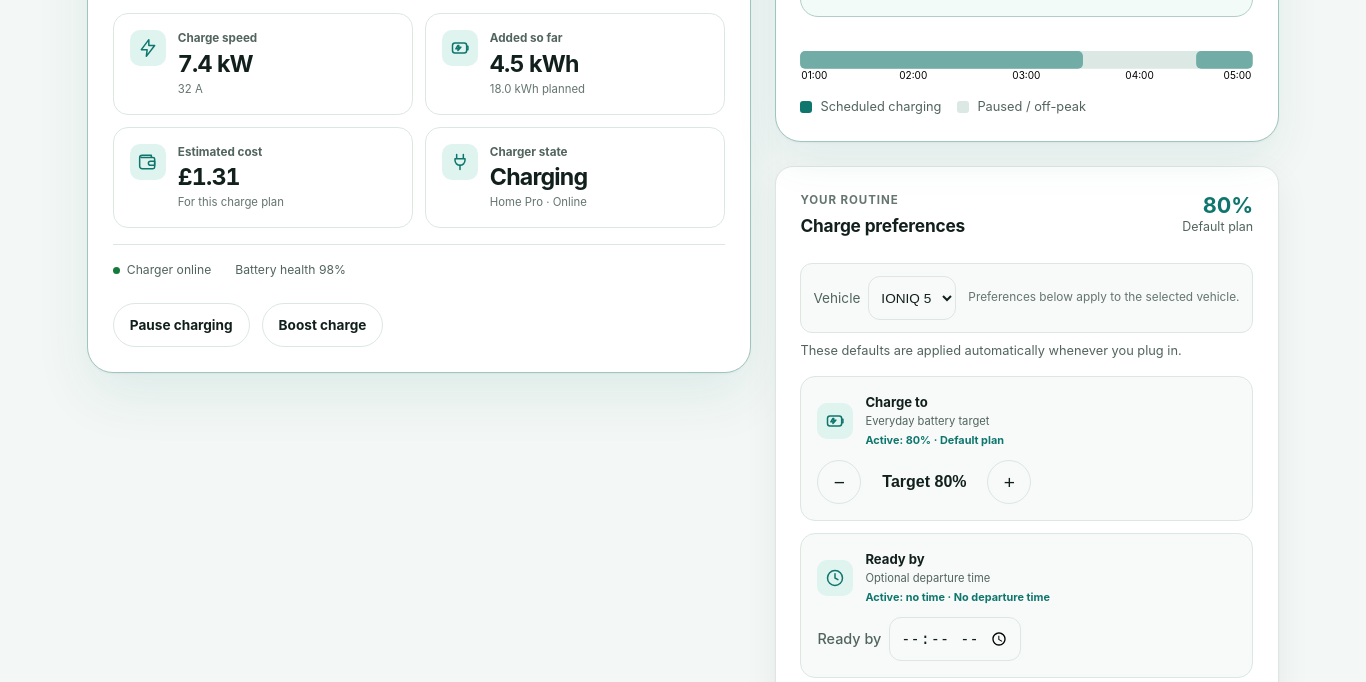
Test: Dashboard integration › wires multi-vehicle selection and profiles into charge preferences
This screenshot has width=1366, height=682.
(page scrolled)
Select "Kona" in the dropdown labelled "Vehicle". click: {"x": 912, "y": 298}
box: [868,276,956,320]
(page scrolled)
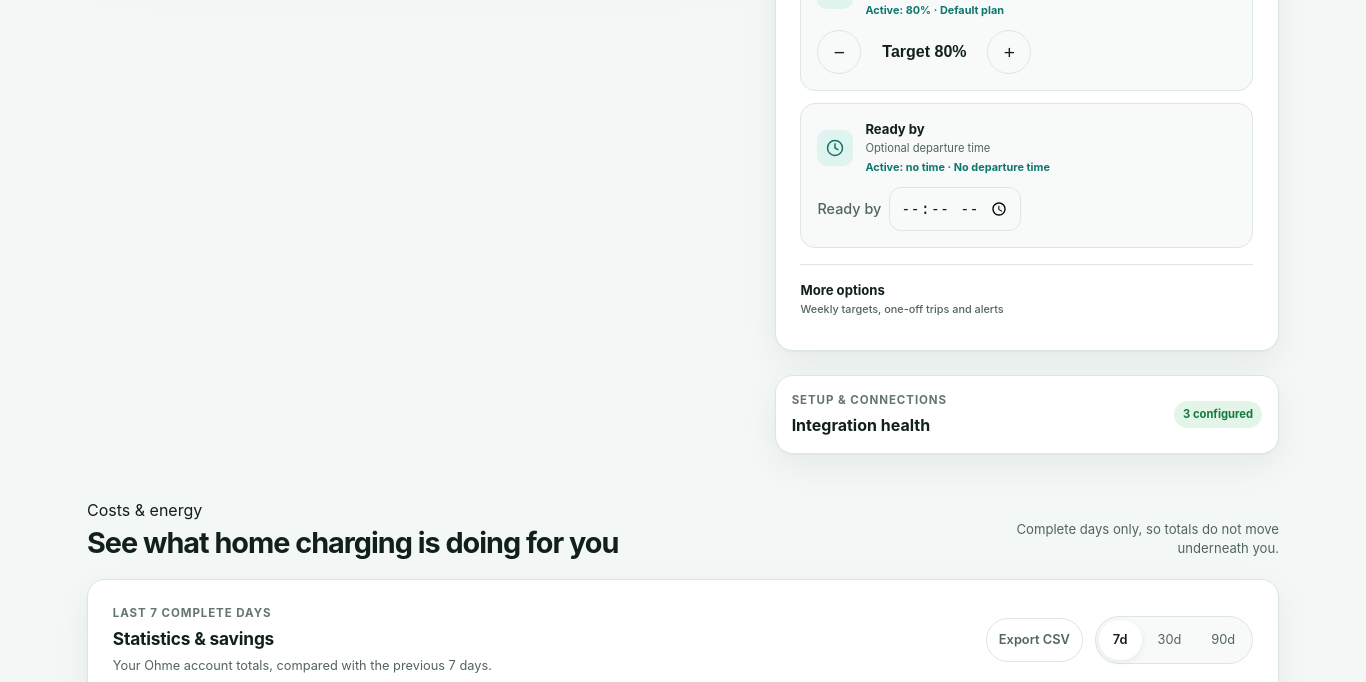
Click the heading "More options". click: {"x": 902, "y": 299}
box: [800,282,1004,316]
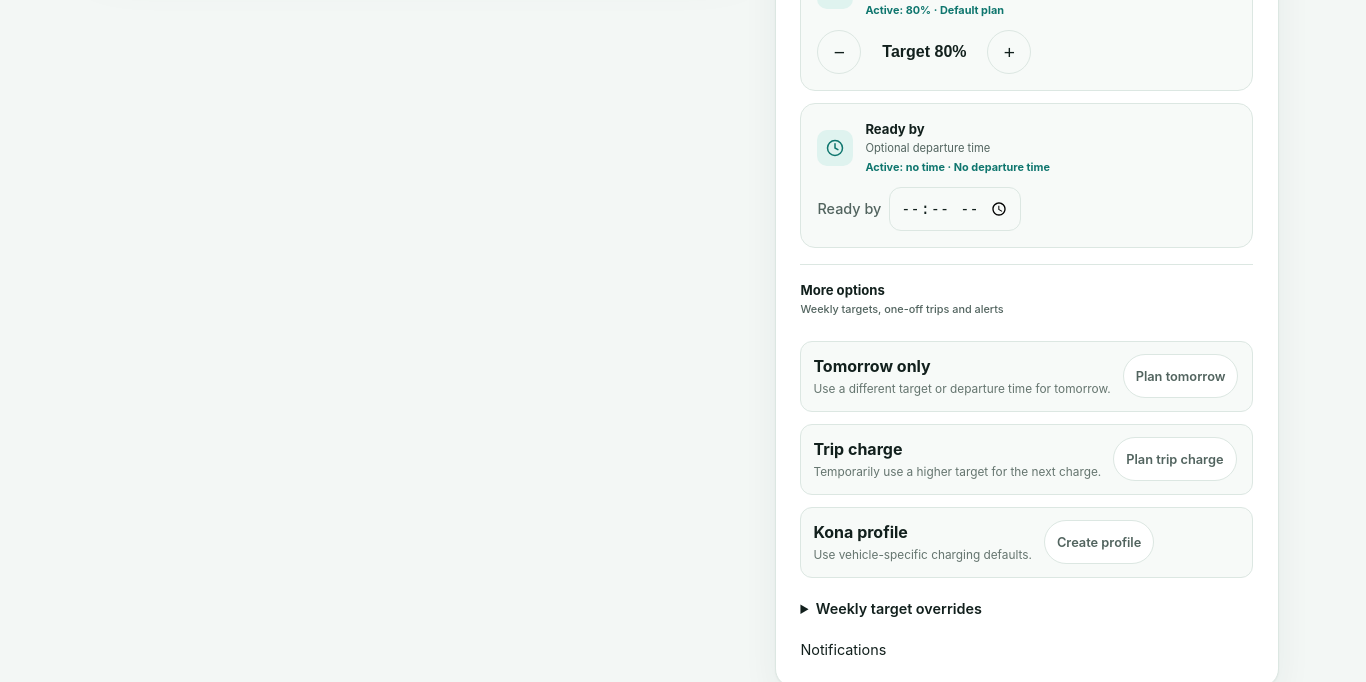
Now the text "Kona profile" is shown, box [813,522,908,542]
